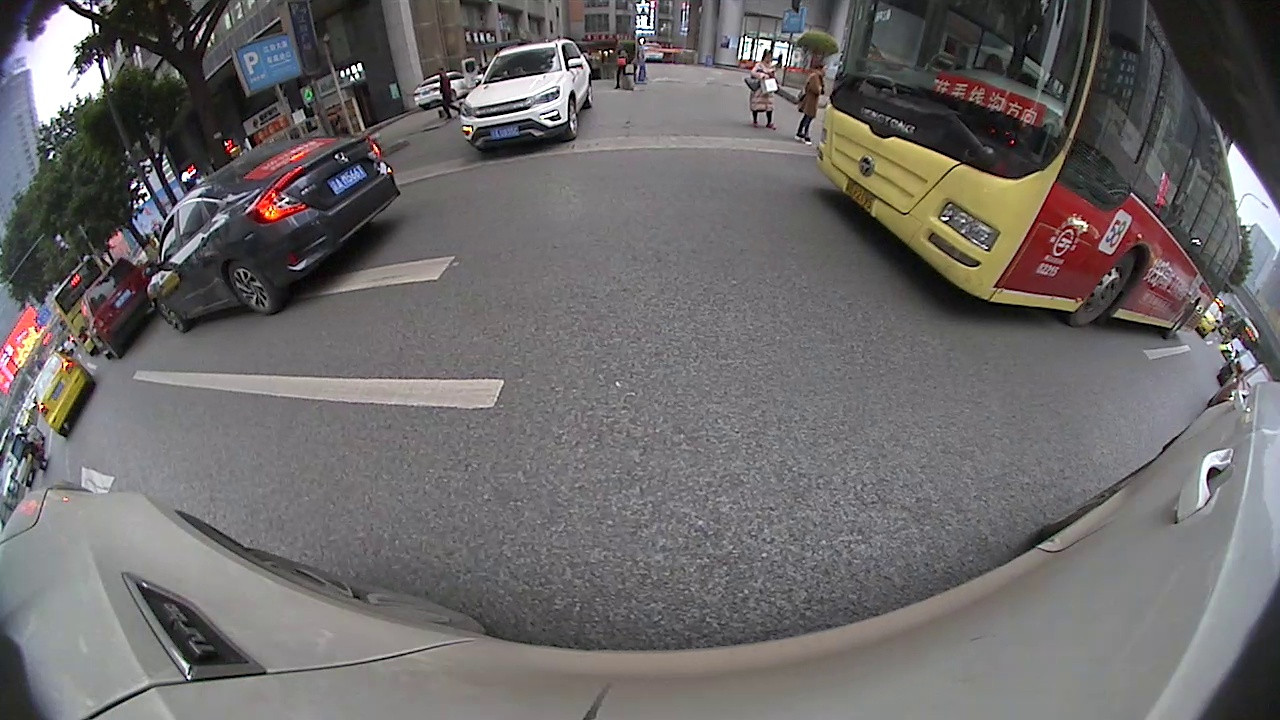bus: (810, 1, 1247, 344)
car: (141, 133, 405, 335), (457, 36, 596, 161), (77, 254, 159, 362), (27, 346, 99, 439)
front: (1062, 245, 1140, 330), (152, 298, 194, 334), (560, 100, 584, 141)
person: (749, 43, 781, 134), (806, 57, 831, 149)
rear: (222, 262, 288, 317), (1163, 297, 1200, 339), (583, 76, 597, 110)
